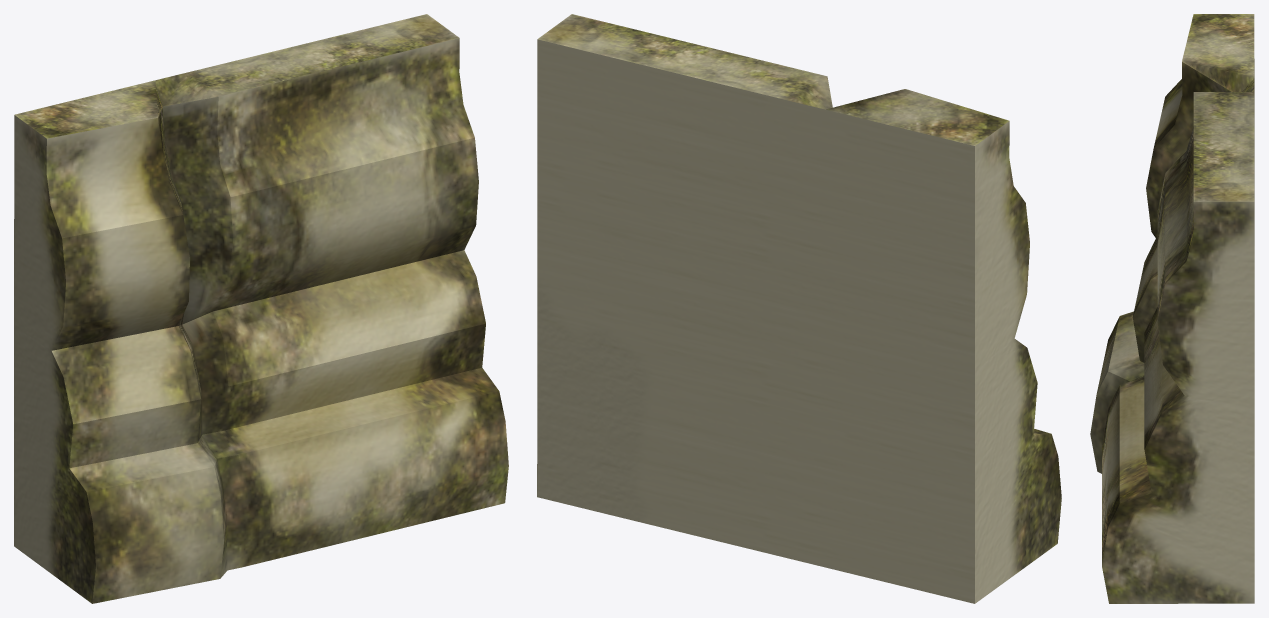
The model's file is Debris_Small_Plaster_02.fbx.
The picture shows the model from 3 angles, left to right: view 1: azimuth 30°, elevation 25°; view 2: azimuth 150°, elevation 25°; view 3: azimuth 270°, elevation 25°; orthographic projection. The views are drawn at different scales.
Visible parts, largest first — view 1: Debris_Small_Plaster_02; view 2: Debris_Small_Plaster_02; view 3: Debris_Small_Plaster_02.
Part boxes in pixels (<box>): Debris_Small_Plaster_02: <box>14,14,508,603</box>; Debris_Small_Plaster_02: <box>537,14,1061,603</box>; Debris_Small_Plaster_02: <box>1090,14,1254,603</box>.
Size of the model in its own units: 0.25 by 0.25 by 0.0926.
